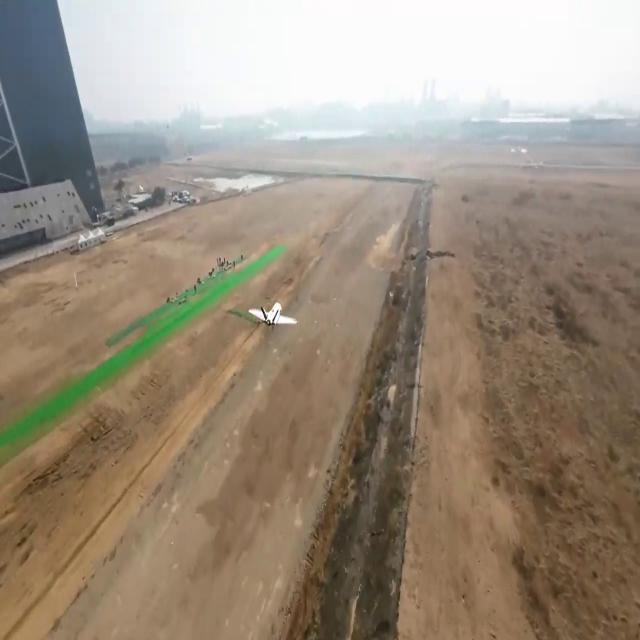iha: (242, 293, 305, 355)
